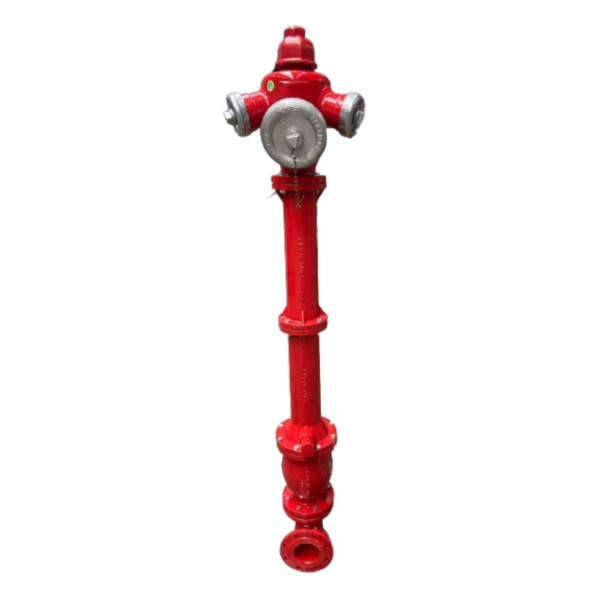FireHydrant: (207, 17, 385, 572)
